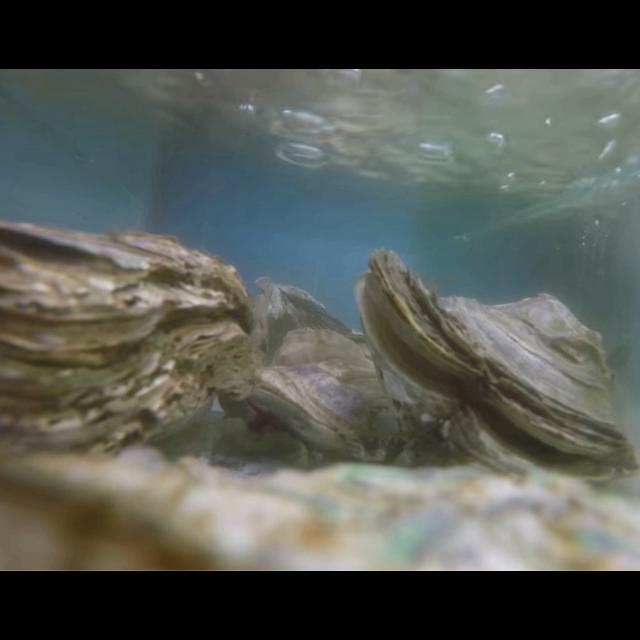Oyster-Closed: (0, 451, 640, 572), (0, 221, 256, 490), (254, 274, 370, 364)
Oyster-Open: (355, 247, 640, 492), (256, 328, 414, 468)
